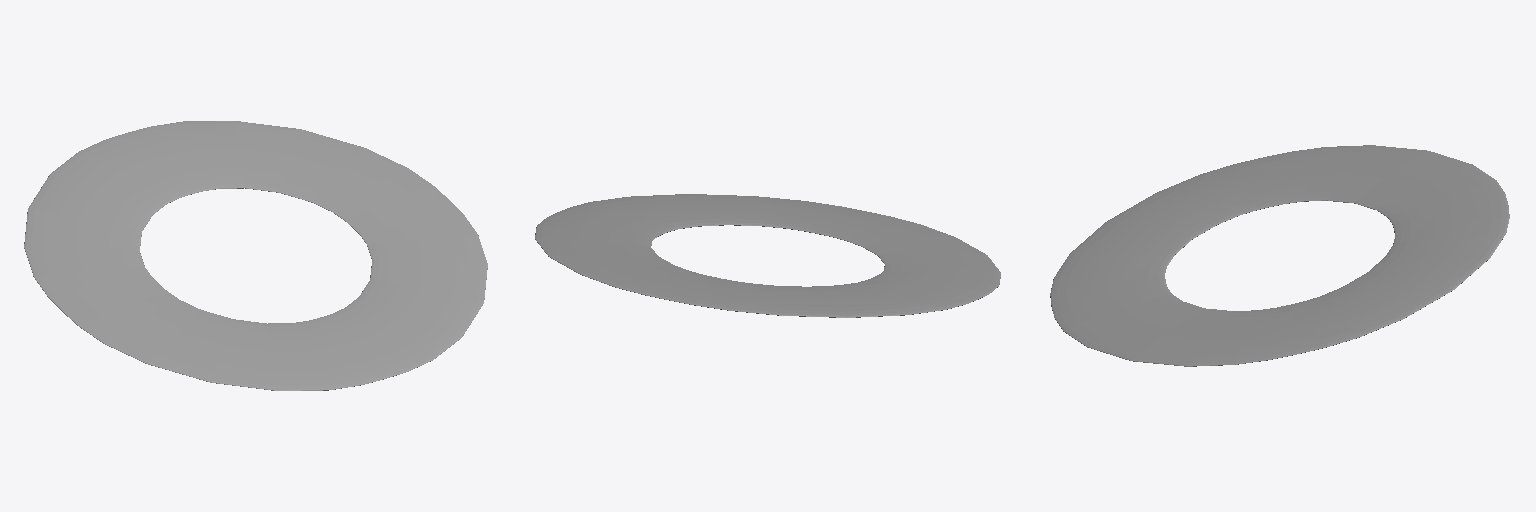
The model's file is jupiterRing.obj.
3 views of the same model, side by side, from view 1: azimuth 30°, elevation 25°; view 2: azimuth 150°, elevation 25°; view 3: azimuth 270°, elevation 25° (orthographic).
Parts seen in each view (by area): view 1: SurfTorus; view 2: SurfTorus; view 3: SurfTorus.
Part boxes in pixels (bbox=[...]): SurfTorus: bbox=[24, 121, 487, 390]; SurfTorus: bbox=[535, 194, 1000, 317]; SurfTorus: bbox=[1050, 145, 1509, 366].
Bounding box in the file's own units: 10.4 × 2.12 × 10.19.